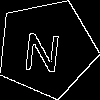N: (22, 23, 64, 72)
